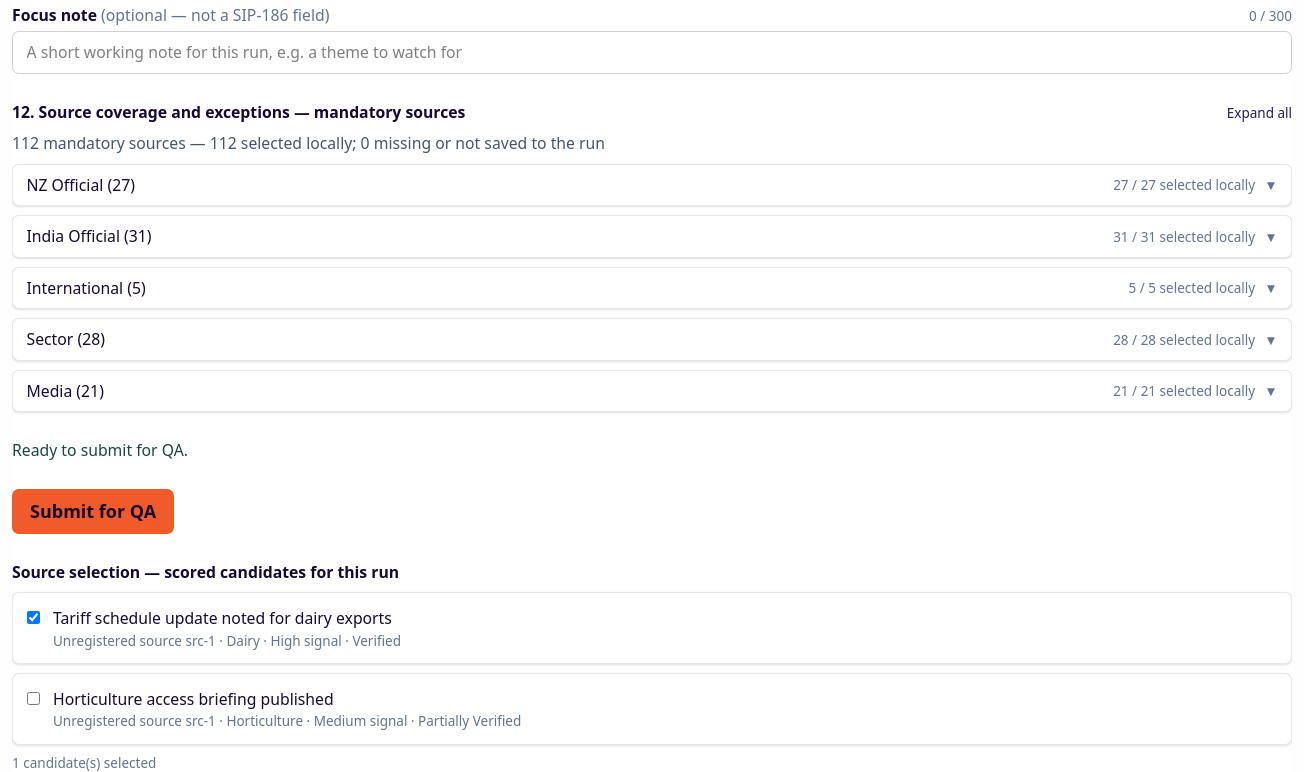
Test: BriefBuilderScreen › shows a loading state, then a submitted banner, on a successful submit
The width and height of the screenshot is (1304, 772).
(page scrolled)
Expected: the text "Ready to submit for QA." is shown, [12,440,188,462]
Click the button "Submit for QA".
click(93, 512)  # box [12,489,174,534]
(page scrolled)
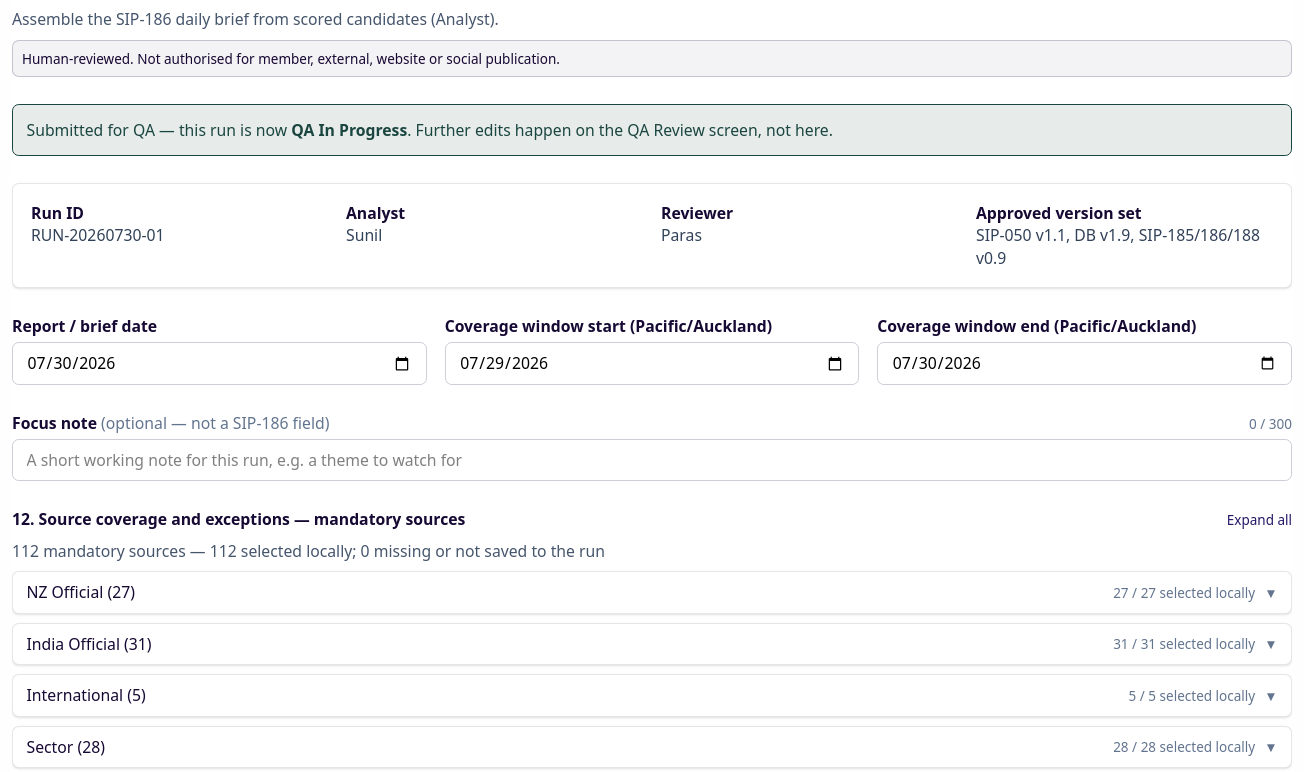
Result: the message shows "QA In Progress" at [291,119,407,141]
Result: the text "submit for QA" is gone
